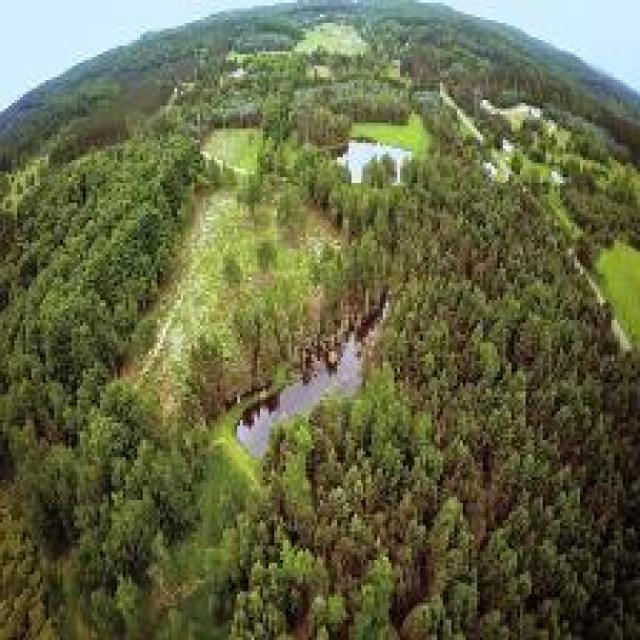other: (200, 342, 436, 453), (317, 121, 510, 192)
